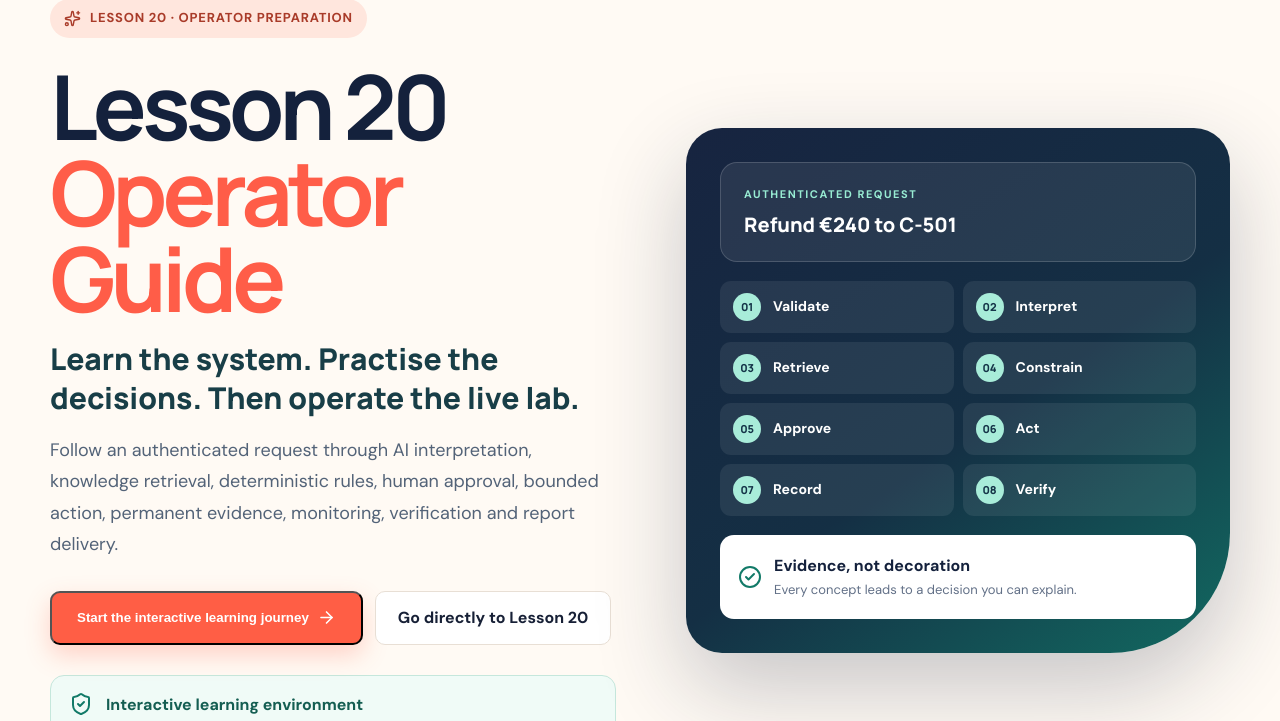
Test: Lesson 20 Operator Guide experience › starts the continuous journey and explains incorrect reasoning
Click the button "Start the interactive learning journey" at (206, 618), box [50, 591, 363, 645]
(page scrolled)
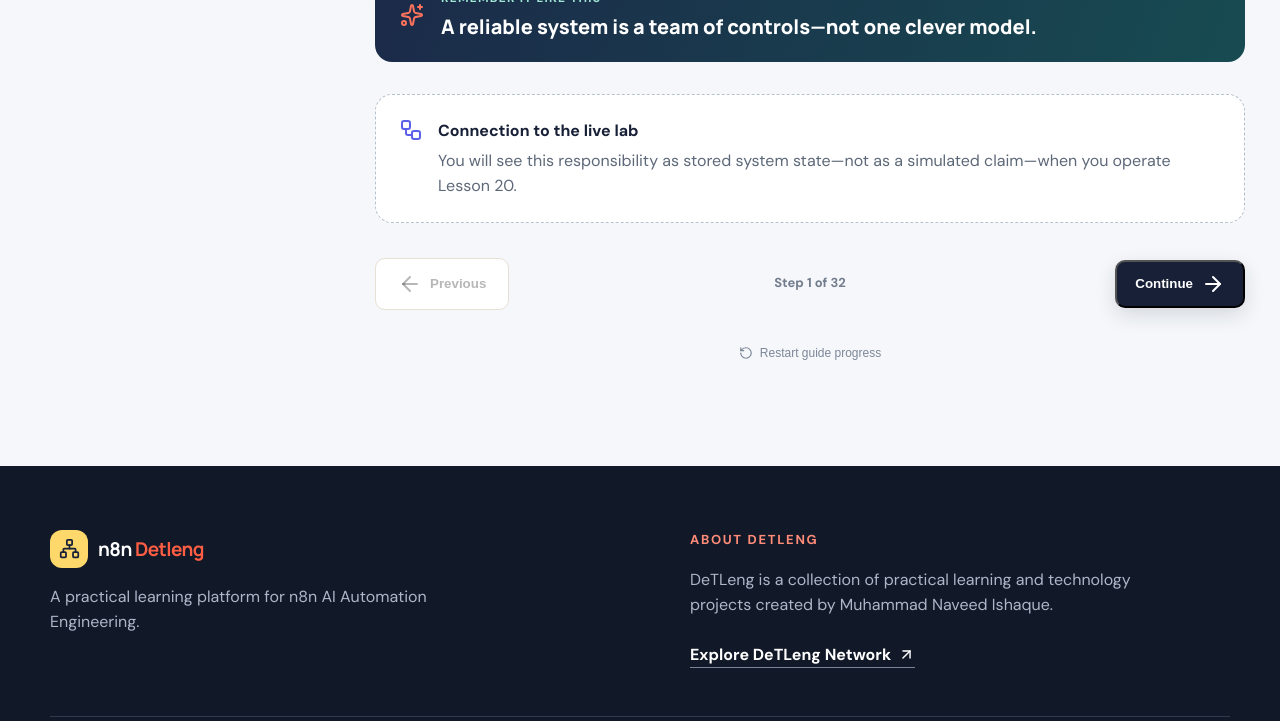
Click the button "Continue" at (1180, 284), box [1115, 260, 1245, 308]
(page scrolled)
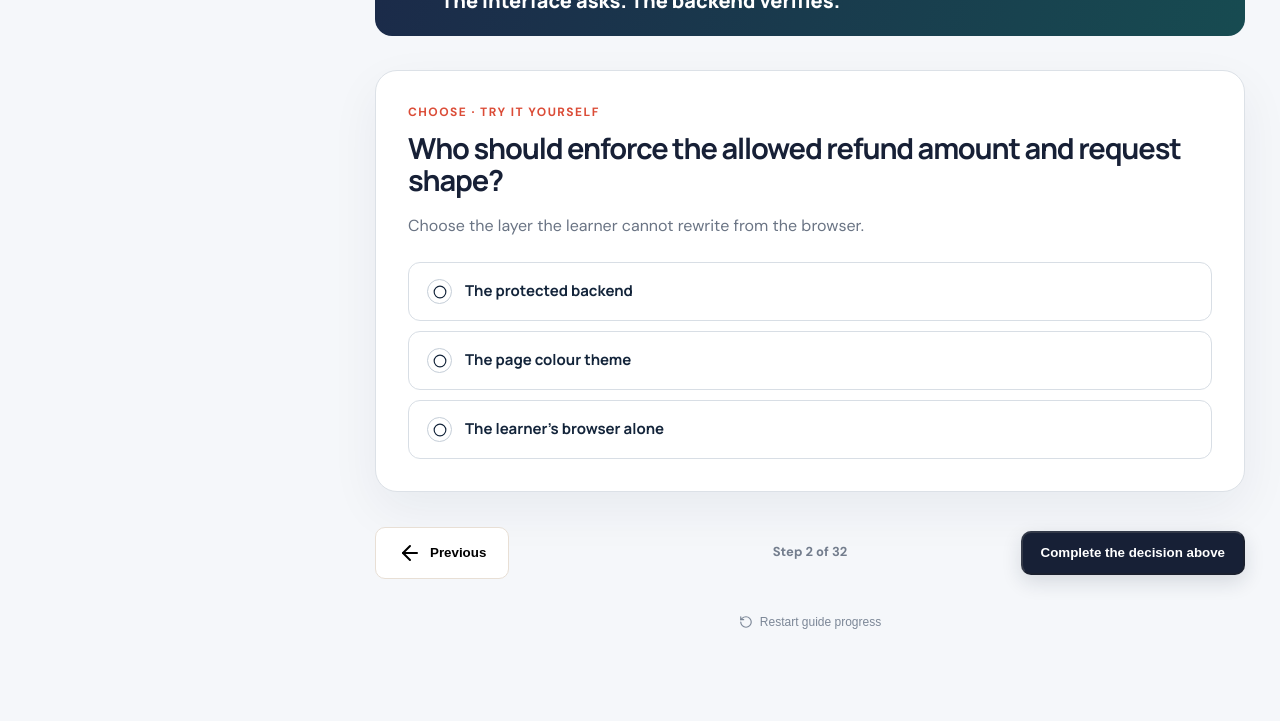
Click the button "The learner’s browser alone" at (564, 429), box [408, 400, 1212, 459]
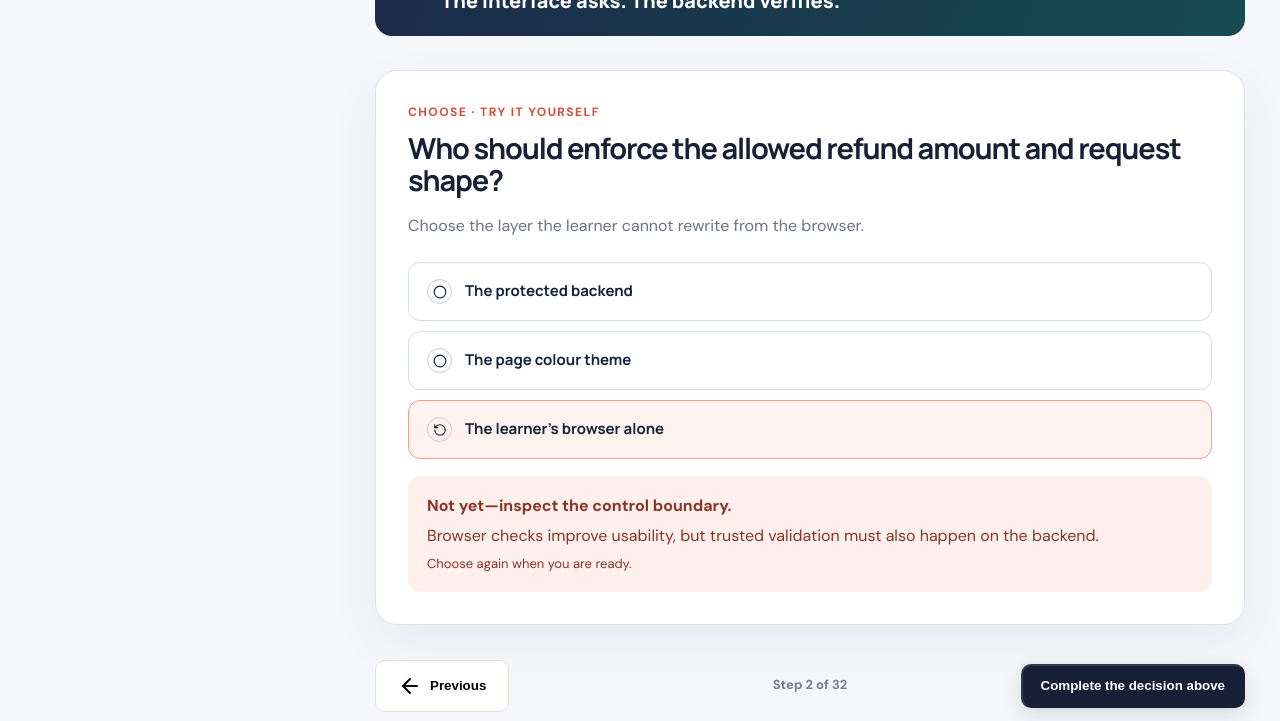
Check: the button "Complete the decision above" is disabled, box [1021, 664, 1245, 708]
Check: the text "Not yet—inspect the control boundary." is shown, box [427, 495, 732, 516]
Click the button "The protected backend" at (549, 291), box [408, 262, 1212, 321]
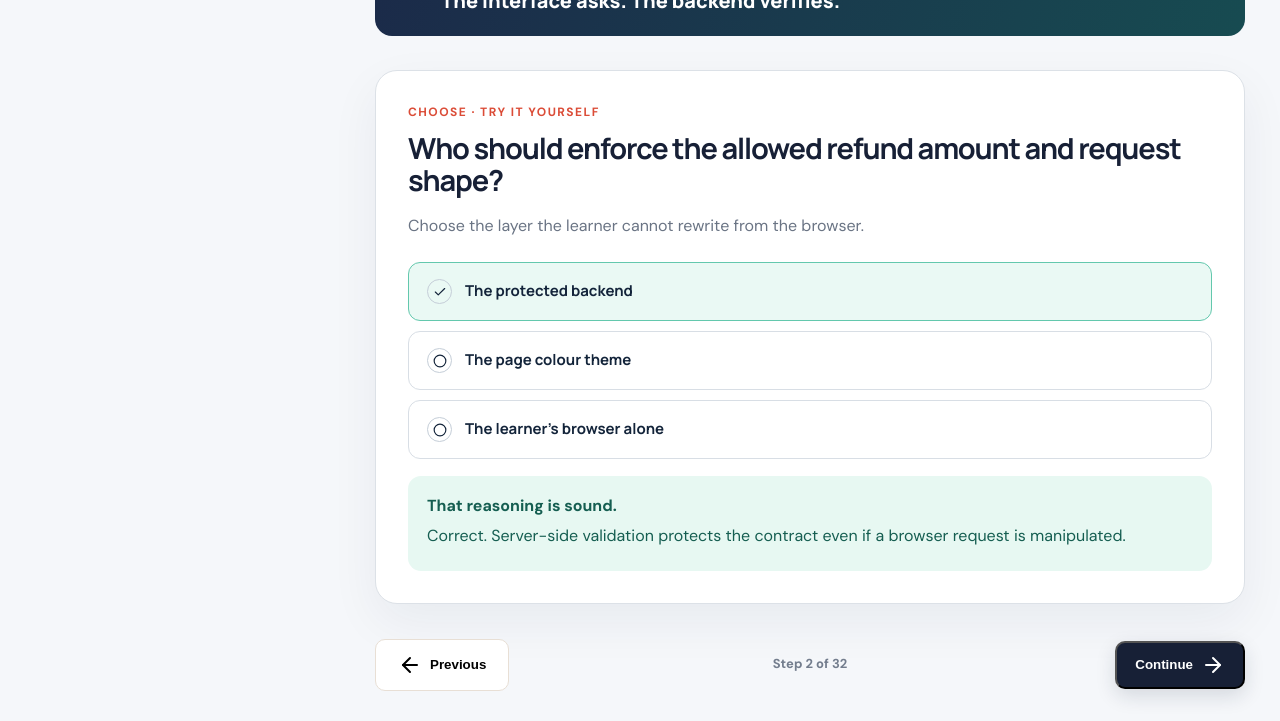
Check: the text "That reasoning is sound." is shown, box [427, 495, 617, 516]
